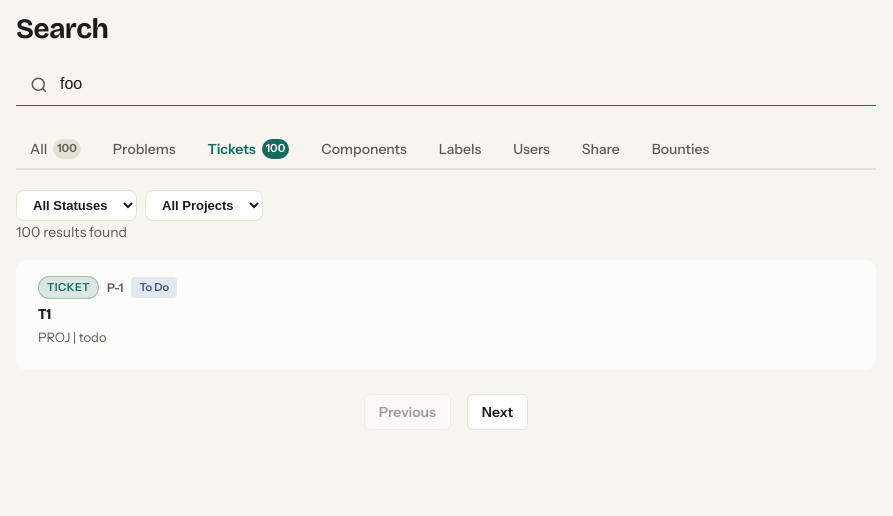
it: Search (WP57) — tabbed search page › WP10: snapshot banner renders after advancing past page 1 on a single-arm tab
Expected: the heading "T1" is shown, x1=38 y1=305 x2=51 y2=323
Expected: the text "snapshot count" is not shown
// Advance to page 2.
Click the button with aria-label "next page" at [498, 412], box x1=467 y1=394 x2=528 y2=430
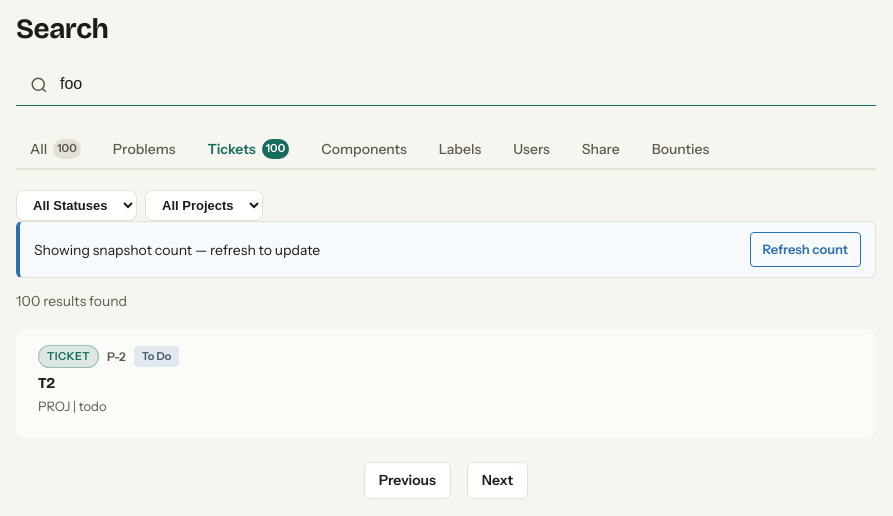
Result: the heading "T2" is shown at x1=38 y1=374 x2=55 y2=392
Result: the text "Showing snapshot count — refresh to update" is shown at x1=34 y1=241 x2=320 y2=259
Result: the button "Refresh count" is shown at x1=750 y1=232 x2=861 y2=267
